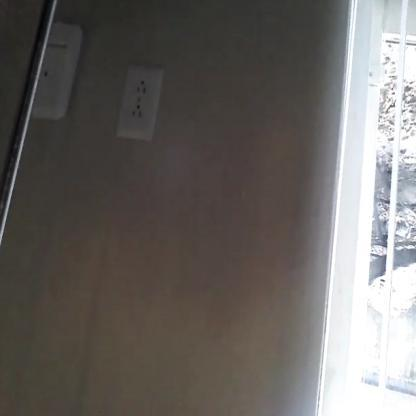OUTLET: (115, 65, 162, 140)
